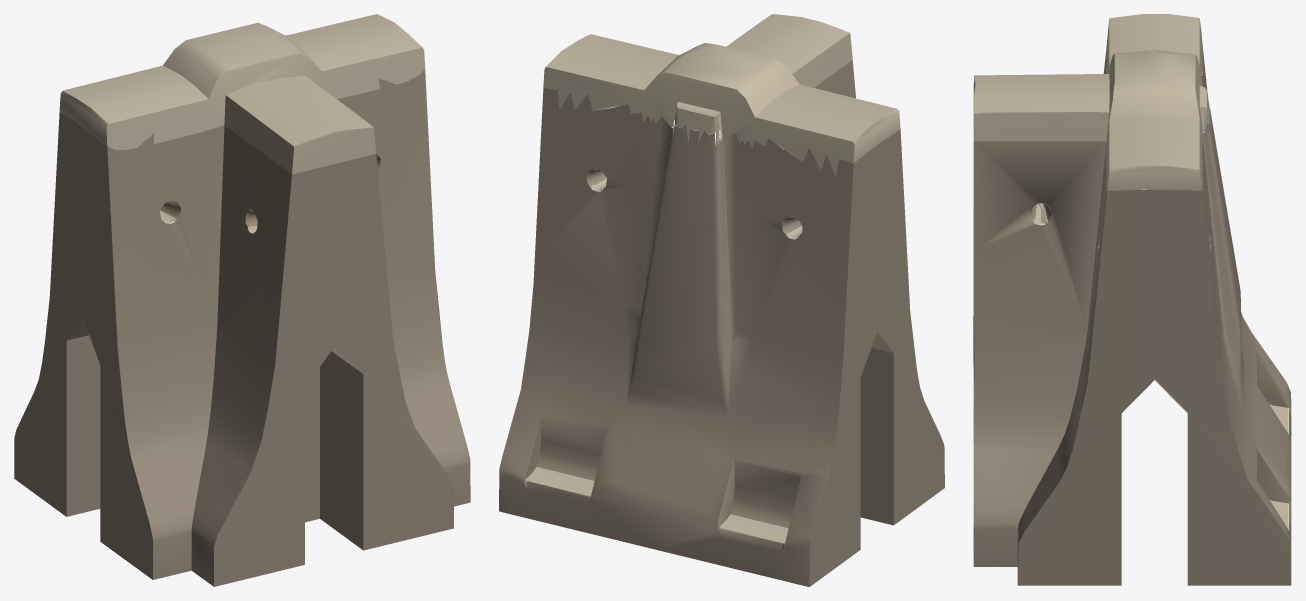
The model's file is stone-wall-esw.glb.
The picture shows the model from 3 angles, left to right: view 1: azimuth 30°, elevation 25°; view 2: azimuth 150°, elevation 25°; view 3: azimuth 270°, elevation 25°; orthographic projection. The views are drawn at different scales.
Visible parts, largest first — view 1: body; view 2: body; view 3: body.
Part boxes in pixels (left/top/right/bottom): body: left=14, top=14, right=470, bottom=586; body: left=499, top=14, right=944, bottom=586; body: left=973, top=14, right=1291, bottom=585.
Size of the model in its own units: 0.9921 by 1.32 by 0.8642.
